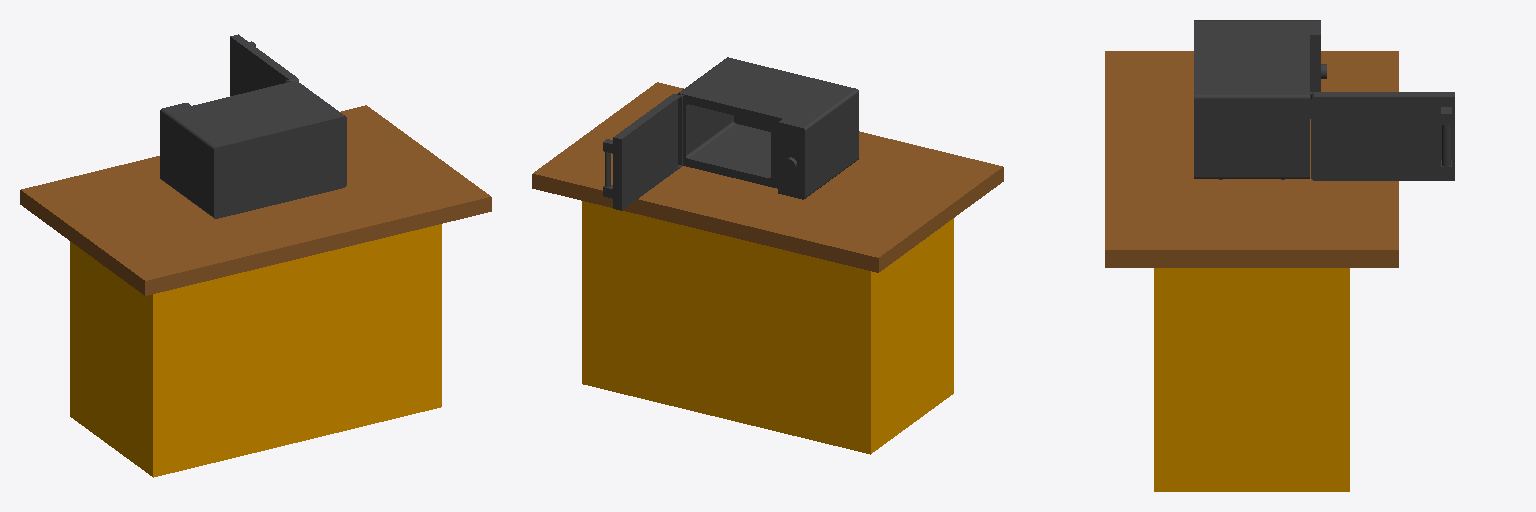
robot.urdf — table_zone_1:
<?xml version="1.0" ?>
<robot name="table_zone_1">
  <link name="table_1">
    <inertial>
      <origin xyz="0 0 0" rpy="0 0 0"/>
      <mass value="45.0"/>
      <inertia ixx="1.0" ixy="0" ixz="0" iyy="1.0" iyz="0" izz="1.0"/>
    </inertial>
    <visual>
      <origin xyz="0 0 0.7" rpy="0 0 0"/>
      <geometry><box size="1.2 0.75 0.05"/></geometry>
      <material name="wood"><color rgba="0.6 0.4 0.2 1"/></material>
    </visual>
    <collision>
      <origin xyz="0 0 0.7" rpy="0 0 0"/>
      <geometry><box size="1.2 0.75 0.05"/></geometry>
    </collision>
    <visual> <origin xyz="0 0 0.35" rpy="0 0 0"/>
      <geometry><box size="1.0 0.5 0.7"/></geometry>
    </visual>
    <collision>
      <origin xyz="0 0 0.7" rpy="0 0 0"/>
      <geometry><box size="1.0 0.5 0.7"/></geometry>
    </collision>
  </link>

  <link name="microwave">
    <inertial>
      <origin xyz="0 0 0" rpy="0 0 0"/>
      <mass value="5.0"/> <inertia ixx="0.1" ixy="0" ixz="0" iyy="0.1" iyz="0" izz="0.1"/>
    </inertial>
    
    <visual>
        <origin xyz="0 0 0" rpy="0 0 0" />
        <geometry>
            <mesh filename="microwave.stl" scale="0.0009 0.0009 0.0009"/>
        </geometry>
        <material name="gray">
            <color rgba="0.3 0.3 0.3 1.0" />
        </material>
    </visual>

    <collision>
      <origin xyz="0 0 0" rpy="0 0 0" />
      <geometry>
        <mesh filename="microwave.stl" scale="0.0009 0.0009 0.0009"/>
      </geometry>
    </collision>
  </link>

  <joint name="j_micro" type="fixed">
    <parent link="table_1"/>
    <child link="microwave"/>
    <origin xyz="0 0 0.75" rpy="0 0 0"/>
  </joint>
</robot>

--- Render facts (derived) ---
3 views of the same robot in one strip: view 1: azimuth 30°, elevation 25°; view 2: azimuth 150°, elevation 25°; view 3: azimuth 270°, elevation 25° (orthographic).
Robot: table_zone_1 — 2 links, 1 joints (1 fixed); root link table_1; default pose: all joints at 0.
Visible links, largest first — view 1: table_1, microwave; view 2: table_1, microwave; view 3: table_1, microwave.
Link boxes in pixels (x1,y1,x2,y2): table_1: [20, 105, 491, 477]; microwave: [160, 34, 346, 218]; table_1: [532, 82, 1003, 454]; microwave: [603, 57, 858, 210]; table_1: [1105, 51, 1398, 491]; microwave: [1194, 20, 1454, 180].
Size in the robot's own frame: 1.2 by 0.8925 by 0.9867 metres.
Meshes: 1 distinct files referenced, 1 mesh visuals loaded (1 binary STL).
